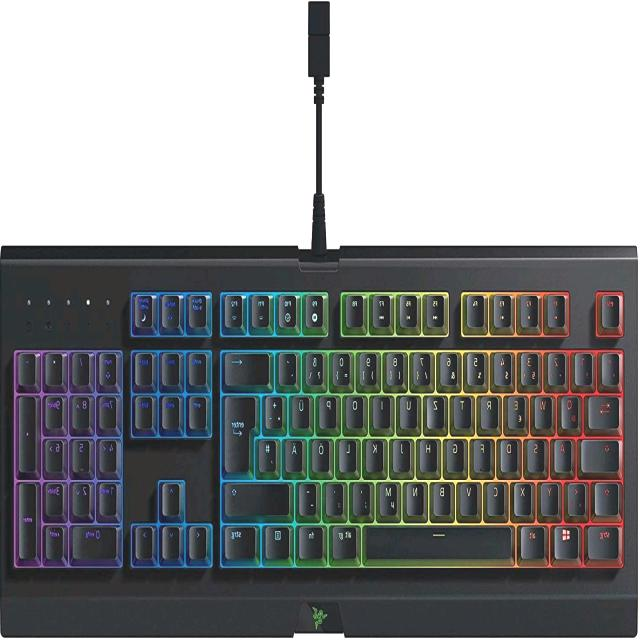0: (333, 347, 354, 385)
1: (575, 348, 595, 384)
2: (548, 348, 568, 384)
3: (521, 348, 542, 384)
4: (494, 348, 515, 384)
5: (467, 348, 488, 384)
6: (439, 348, 461, 384)
7: (413, 348, 435, 386)
8: (386, 348, 408, 386)
9: (359, 348, 381, 384)
a: (555, 436, 575, 470)
accent: (280, 348, 300, 384)
ae: (286, 435, 306, 471)
alt-left: (521, 521, 548, 557)
altgr-right: (333, 522, 361, 558)
b: (433, 478, 455, 514)
c: (487, 477, 508, 513)
caret: (603, 349, 623, 383)
comma: (354, 478, 374, 514)
d: (501, 435, 521, 471)
del: (225, 350, 273, 384)
e: (508, 391, 528, 427)
enter: (225, 390, 259, 472)
f: (474, 436, 494, 470)
g: (448, 435, 468, 471)
h: (420, 434, 440, 470)
hash: (260, 435, 280, 471)
i: (374, 392, 394, 426)
j: (393, 435, 413, 471)
k: (367, 435, 387, 471)
keyboard: (4, 245, 633, 597)
l: (340, 435, 360, 471)
less: (568, 478, 588, 514)
m: (379, 478, 401, 516)
minus: (300, 479, 320, 515)
n: (406, 478, 427, 514)
o: (346, 391, 367, 427)
oe: (313, 435, 333, 471)
p: (320, 391, 340, 427)
plus: (266, 392, 286, 428)
point: (327, 478, 347, 514)
q: (561, 391, 583, 427)
r: (481, 391, 501, 427)
s: (528, 435, 548, 471)
shift-left: (596, 478, 622, 514)
shift-lock: (582, 435, 622, 471)
shift-right: (226, 479, 292, 515)
space: (364, 521, 516, 560)
ss: (306, 348, 326, 386)
strg-left: (589, 521, 623, 557)
strg-right: (224, 523, 258, 559)
t: (454, 391, 474, 427)
tab: (590, 392, 622, 426)
u: (400, 391, 421, 427)
ue: (292, 392, 312, 428)
v: (460, 477, 481, 513)
w: (535, 392, 555, 428)
x: (514, 478, 534, 514)
y: (541, 478, 561, 514)
z: (427, 391, 448, 427)
